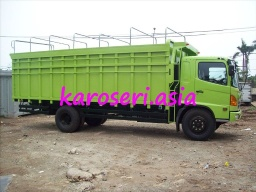truck: (7, 42, 242, 144)
